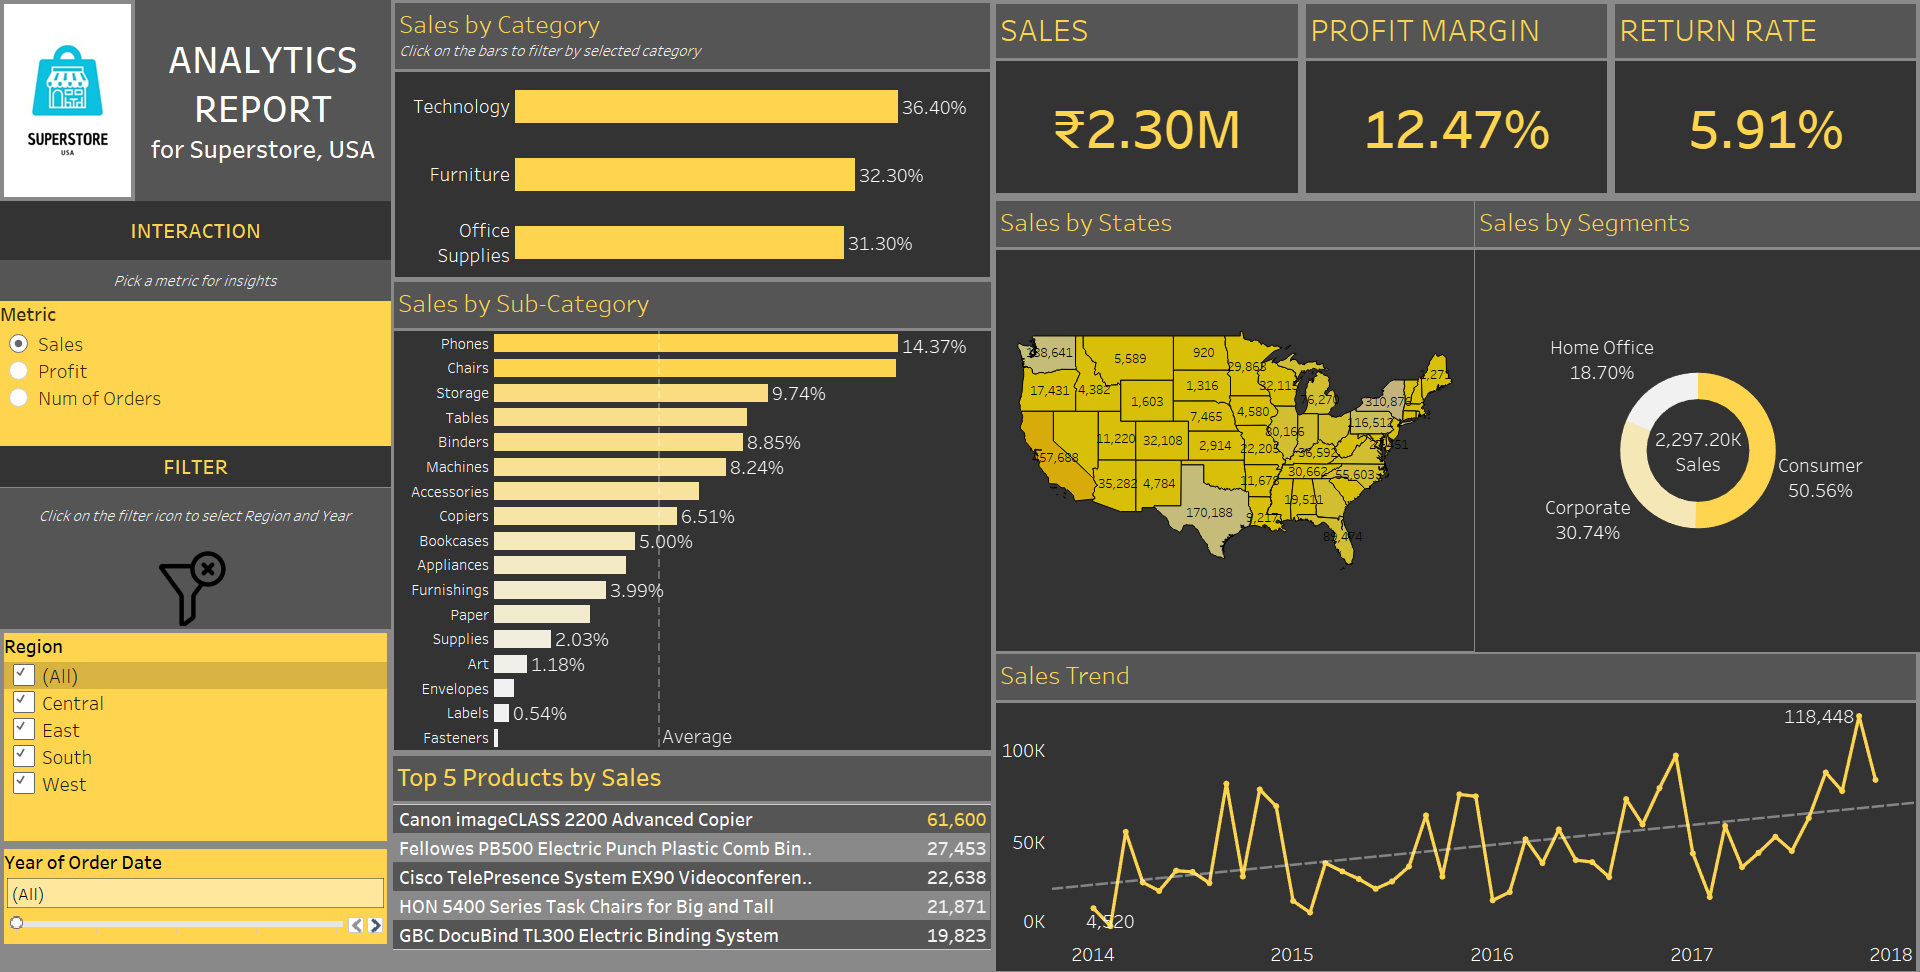

The dashboard page shown, as its layout file describes it:
{"tool":"tableau","page":{"name":"Dashboard","canvas":[1000,1000],"units":"permille","ordinal":0},"visuals":[{"type":"image","param":"Image/Superstore.jpg","box":[0,0,70.5,205.8]},{"type":"text","box":[70.5,0,133.4,205.8]},{"type":"worksheet","title":"Sales","mark":"Automatic","box":[516.8,0,161.5,201.8]},{"type":"worksheet","title":"Profit margin","mark":"Automatic","box":[678.3,0,160.8,201.8]},{"type":"worksheet","title":"Return rate","mark":"Automatic","box":[839.1,0,160.8,201.8]},{"type":"worksheet","title":"Category","mark":"Automatic","rows":["Category"],"cols":["Calculation_487796158567698432"],"box":[205.7,2.6,309.9,343]},{"type":"text","box":[0,205.8,203.9,60.7]},{"type":"worksheet","title":"Map","mark":"Multipolygon","box":[518.7,205.8,248.8,461.7]},{"type":"worksheet","title":"Segment","mark":"Pie","rows":["Calculation_487796158591057924","Calculation_487796158591057924"],"box":[768.1,205.8,232.5,461.7]},{"type":"text","box":[0,266.5,203.9,42.2]},{"type":"worksheet","title":"Sub-Cat","mark":"Automatic","rows":["Sub-Category"],"cols":["Calculation_487796158567698432"],"box":[205.1,288.9,311.1,480.2]},{"type":"parameter","param":"[Parameters].[Parameter 2]","box":[0,308.7,203.9,149.1]},{"type":"text","box":[0,457.8,203.9,42.2]},{"type":"text","box":[0,500,203.9,56.7]},{"type":"dashboard-object","box":[79.8,564.6,41.1,77.8]},{"type":"filter","title":"Category","param":"[federated.0g2iai41w3f6nd17jtxeg0jlbr61].[none:Region:nk]","box":[0,645.1,203.9,285]},{"type":"worksheet","title":"Trend","mark":"Line","rows":["Calculation_487796158567698432"],"cols":["Order Date"],"box":[516.8,666.2,483.2,333.8]},{"type":"worksheet","title":"Products","mark":"Text","rows":["Product Name"],"box":[204.5,775.7,330.4,203.2]},{"type":"filter","title":"Category","param":"[federated.0g2iai41w3f6nd17jtxeg0jlbr61].[yr:Order Date:ok]","box":[0,930.1,203.9,69.9]}]}

Visuals, with their boxes on the dashboard's canvas, which has no fixed pixel size, in thousandths of its width and height (x1, y1, x2, y2). These are canvas units, not pixel positions in the 1920x972 screenshot, which may show the page scaled, cropped or inside an application window:
image: <region>0, 0, 70, 206</region>
text: <region>70, 0, 204, 206</region>
"Sales" worksheet: <region>517, 0, 678, 202</region>
"Profit margin" worksheet: <region>678, 0, 839, 202</region>
"Return rate" worksheet: <region>839, 0, 1000, 202</region>
"Category" worksheet: <region>206, 3, 516, 346</region>
text: <region>0, 206, 204, 266</region>
"Map" worksheet (Multipolygon marks): <region>519, 206, 768, 668</region>
"Segment" worksheet (Pie marks): <region>768, 206, 1001, 668</region>
text: <region>0, 266, 204, 309</region>
"Sub-Cat" worksheet: <region>205, 289, 516, 769</region>
parameter: <region>0, 309, 204, 458</region>
text: <region>0, 458, 204, 500</region>
text: <region>0, 500, 204, 557</region>
dashboard-object: <region>80, 565, 121, 642</region>
"Category" filter: <region>0, 645, 204, 930</region>
"Trend" worksheet (Line marks): <region>517, 666, 1000, 1000</region>
"Products" worksheet (Text marks): <region>204, 776, 535, 979</region>
"Category" filter: <region>0, 930, 204, 1000</region>
